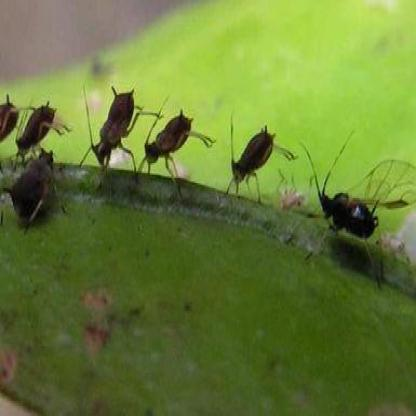aphid: (299, 129, 416, 270), (82, 70, 160, 176), (227, 102, 284, 211), (146, 97, 212, 185), (6, 141, 71, 224), (13, 90, 72, 160), (0, 89, 21, 162)
